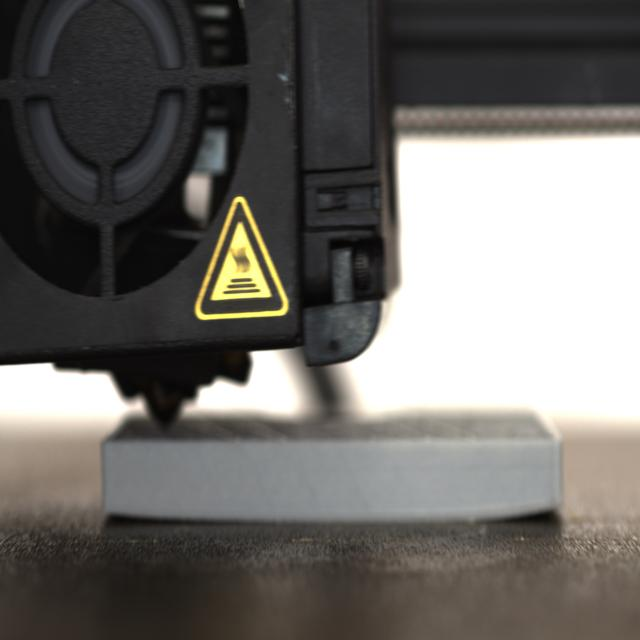Warping: (486, 495, 564, 530), (93, 499, 168, 530)
